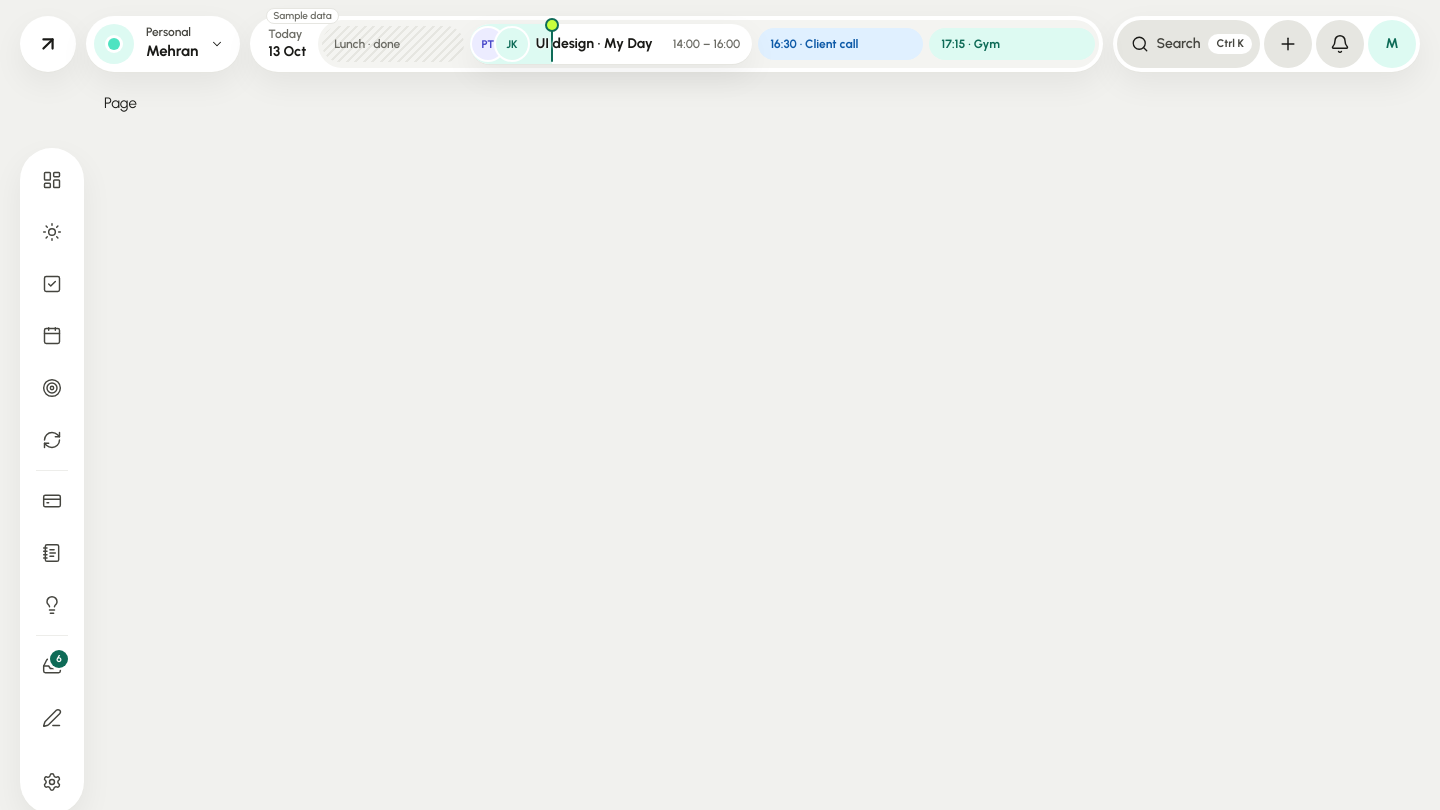
Test: landmarks and sample data › labels sample content in the schedule and the account menu
Expected: the text "Sample data" is shown, [266,8,339,24]
What coordinates should you click on to do the following:
click the button named "Account menu"
I would click on:
 (1392, 44)
Its box is [1368,20,1416,68].
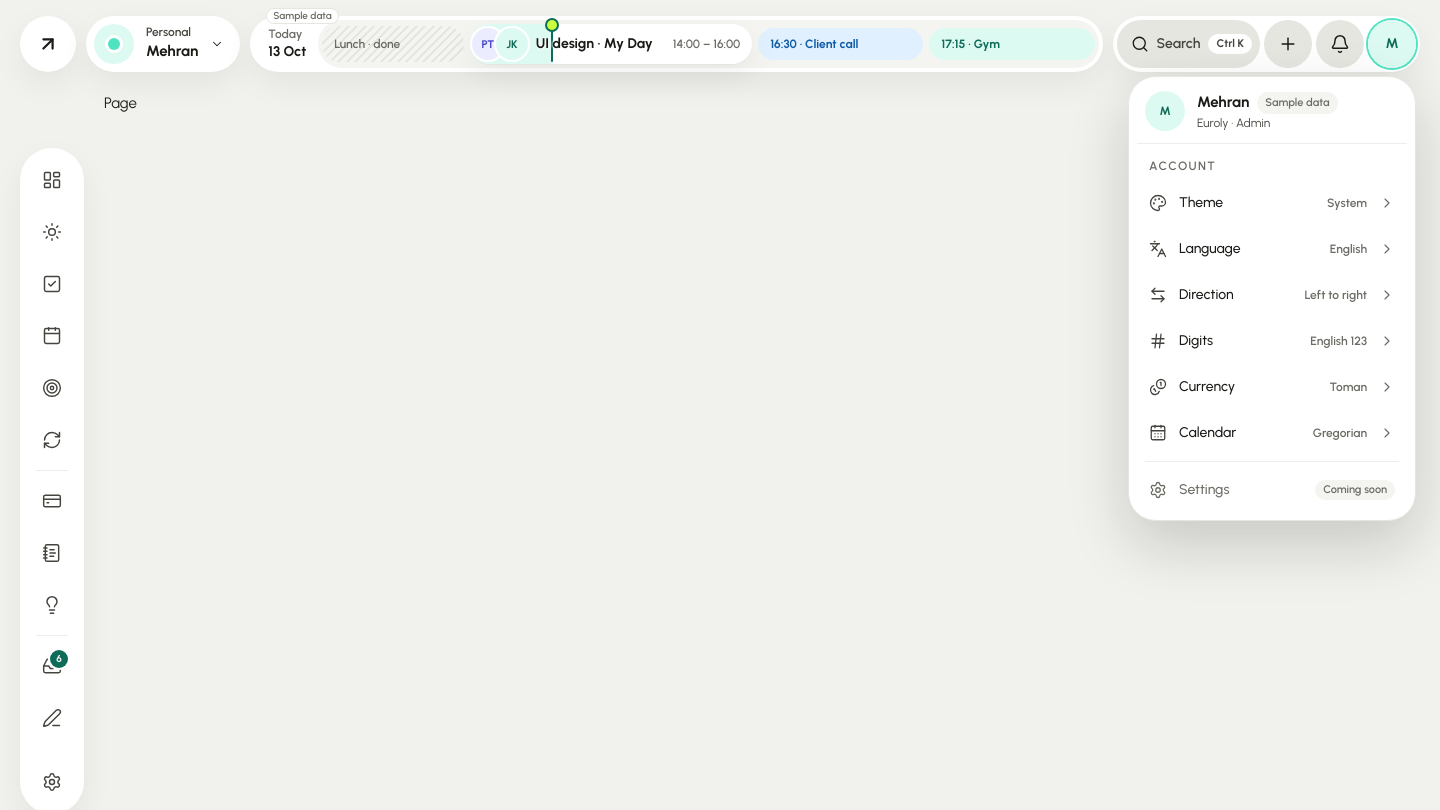
Expected: the 2nd text "Sample data" is shown, [1257,92,1338,114]
